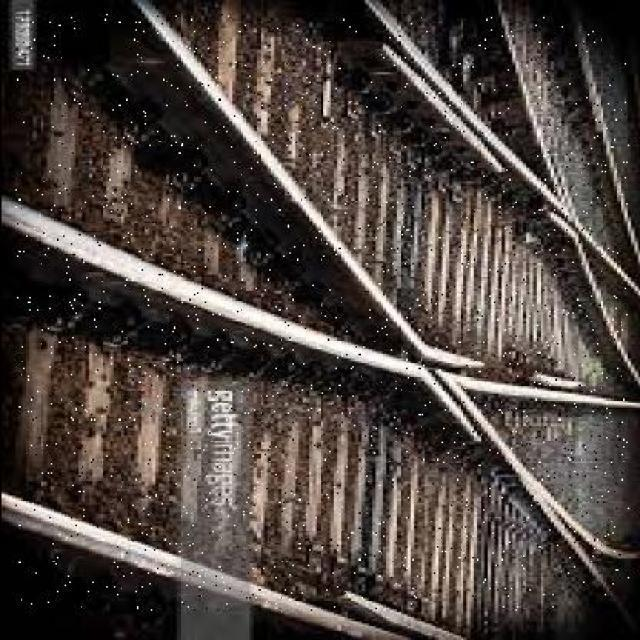rail: (14, 14, 628, 612)
